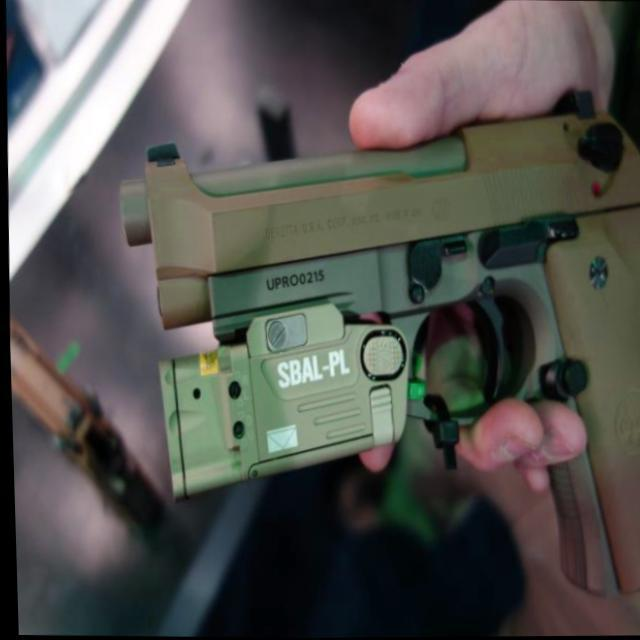weapon: (107, 82, 640, 600)
